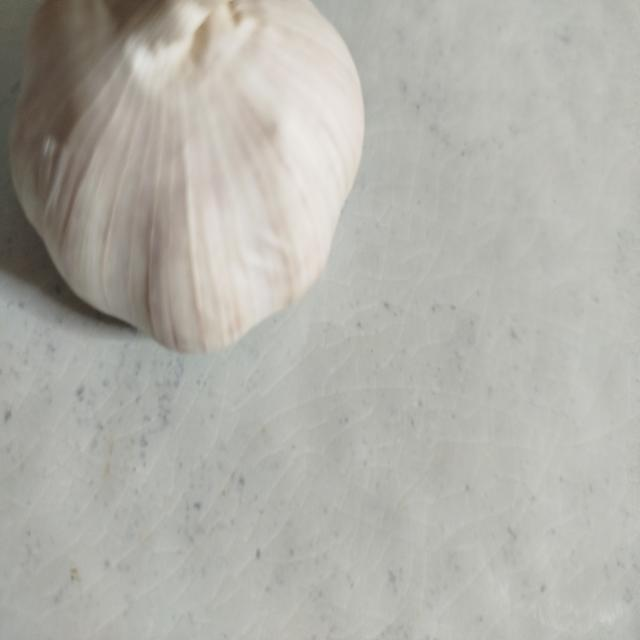garlic: (8, 0, 366, 355)
